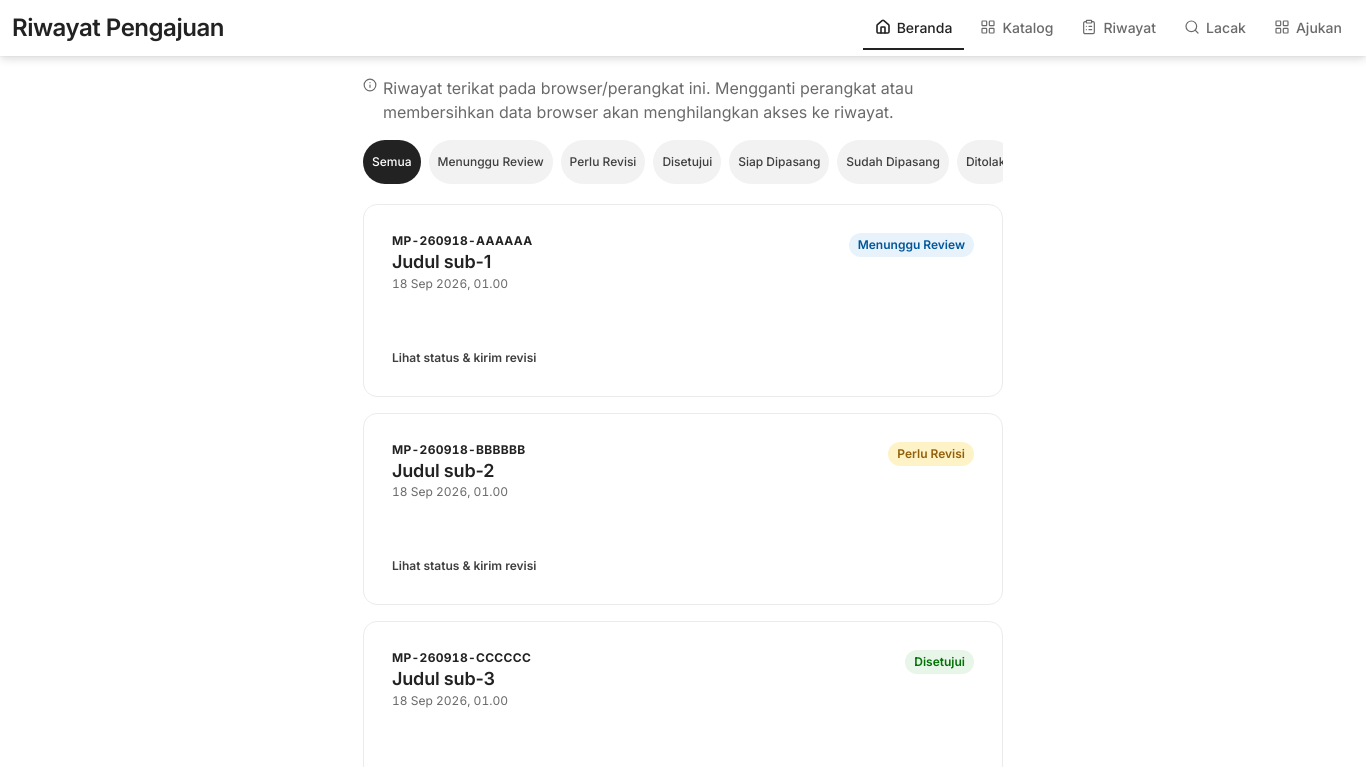
Test: MySubmissionsPage - chip filter status › klik "Perlu Revisi" → hanya baris perlu_revisi yang tampil
expect the text "MP-260918-AAAAAA" is shown: met, box [392, 233, 532, 249]
Click the button "Perlu Revisi" at {"x": 603, "y": 162}, box [561, 140, 645, 184]
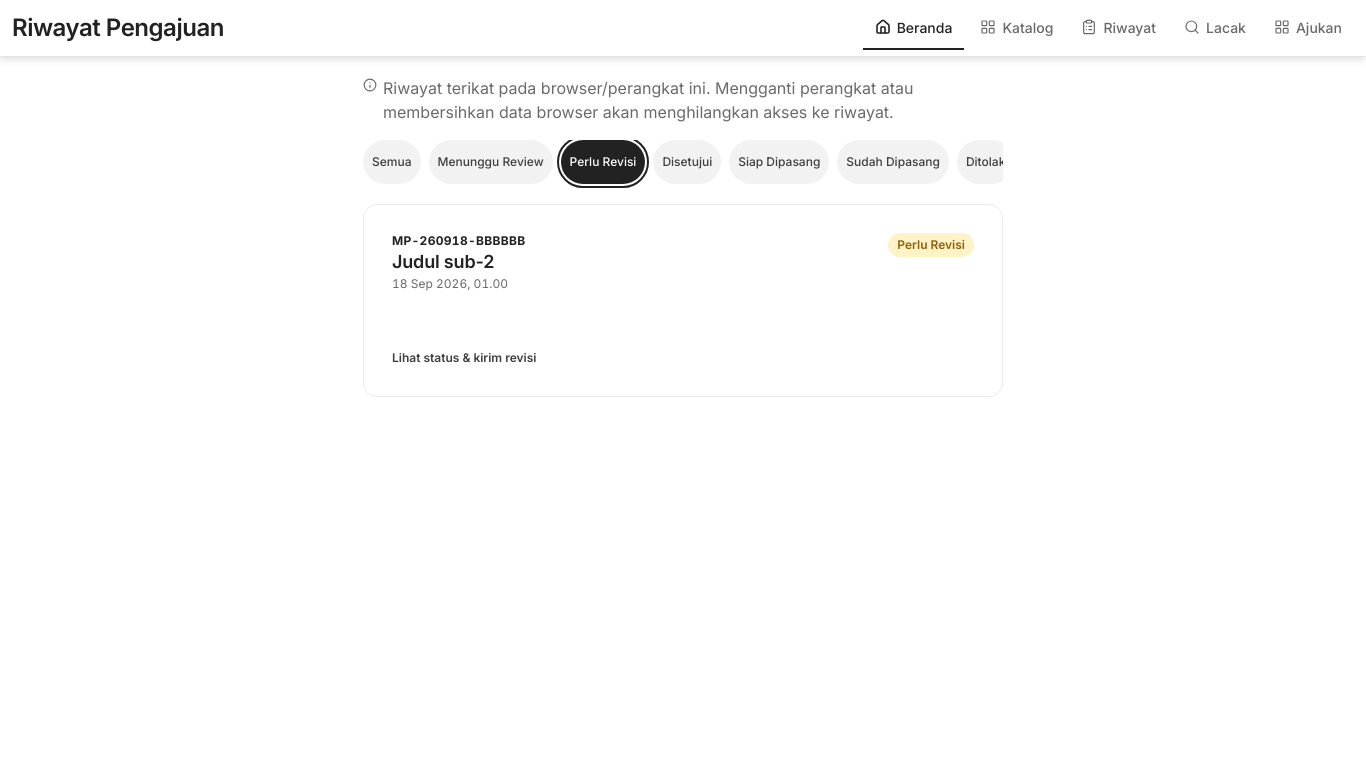
expect the text "Judul sub-2" is shown: met, box [392, 251, 494, 272]
expect the text "Judul sub-1" is gone: met
expect the text "Judul sub-3" is gone: met
